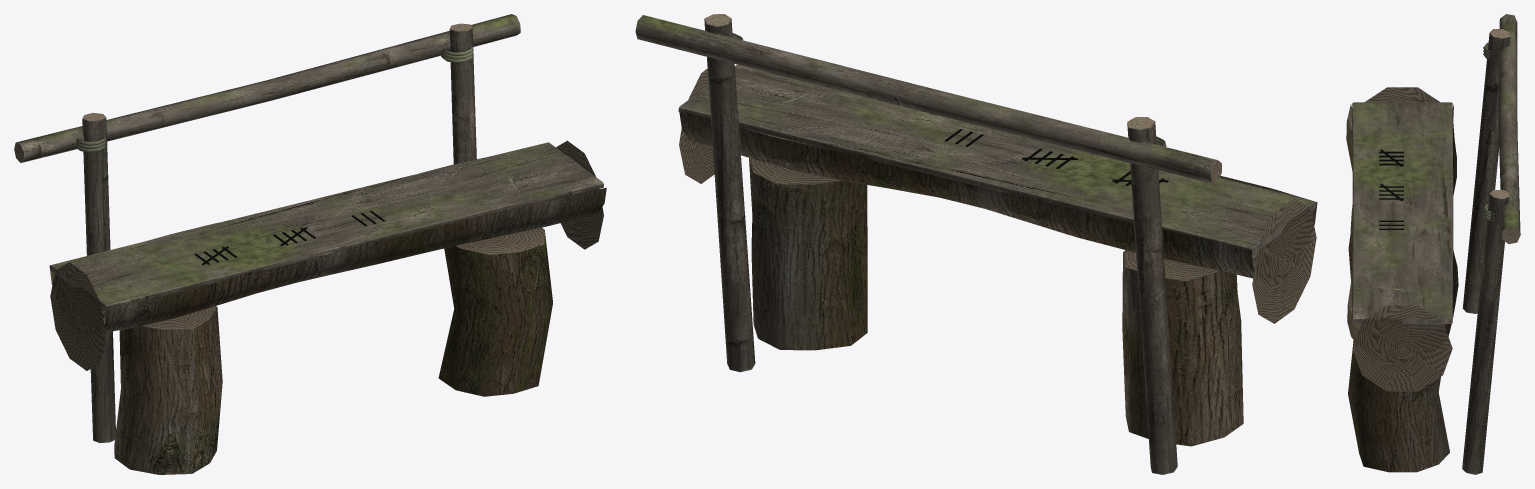
The model's file is bench.glb.
3 renders of one model, left to right at view 1: azimuth 30°, elevation 25°; view 2: azimuth 150°, elevation 25°; view 3: azimuth 270°, elevation 25°, orthographic. The views are drawn at different scales.
Visible parts, largest first — view 1: bench; view 2: bench; view 3: bench.
Part boxes in pixels (x1,y1,x2,y2): bench: (14,14,606,474); bench: (635,14,1317,474); bench: (1346,14,1520,474).
Bounding box in the file's own units: 1.9 × 1.14 × 0.6418.
Materials: 1 (1 with a texture image).
